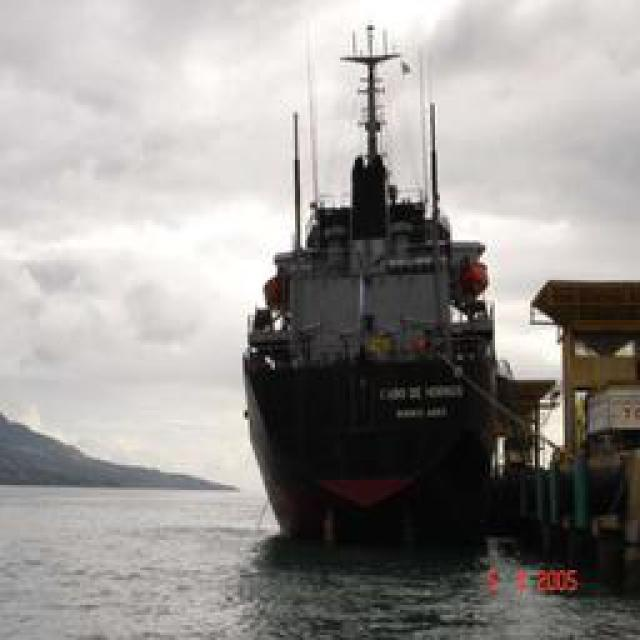Ship: (242, 1, 505, 549)
